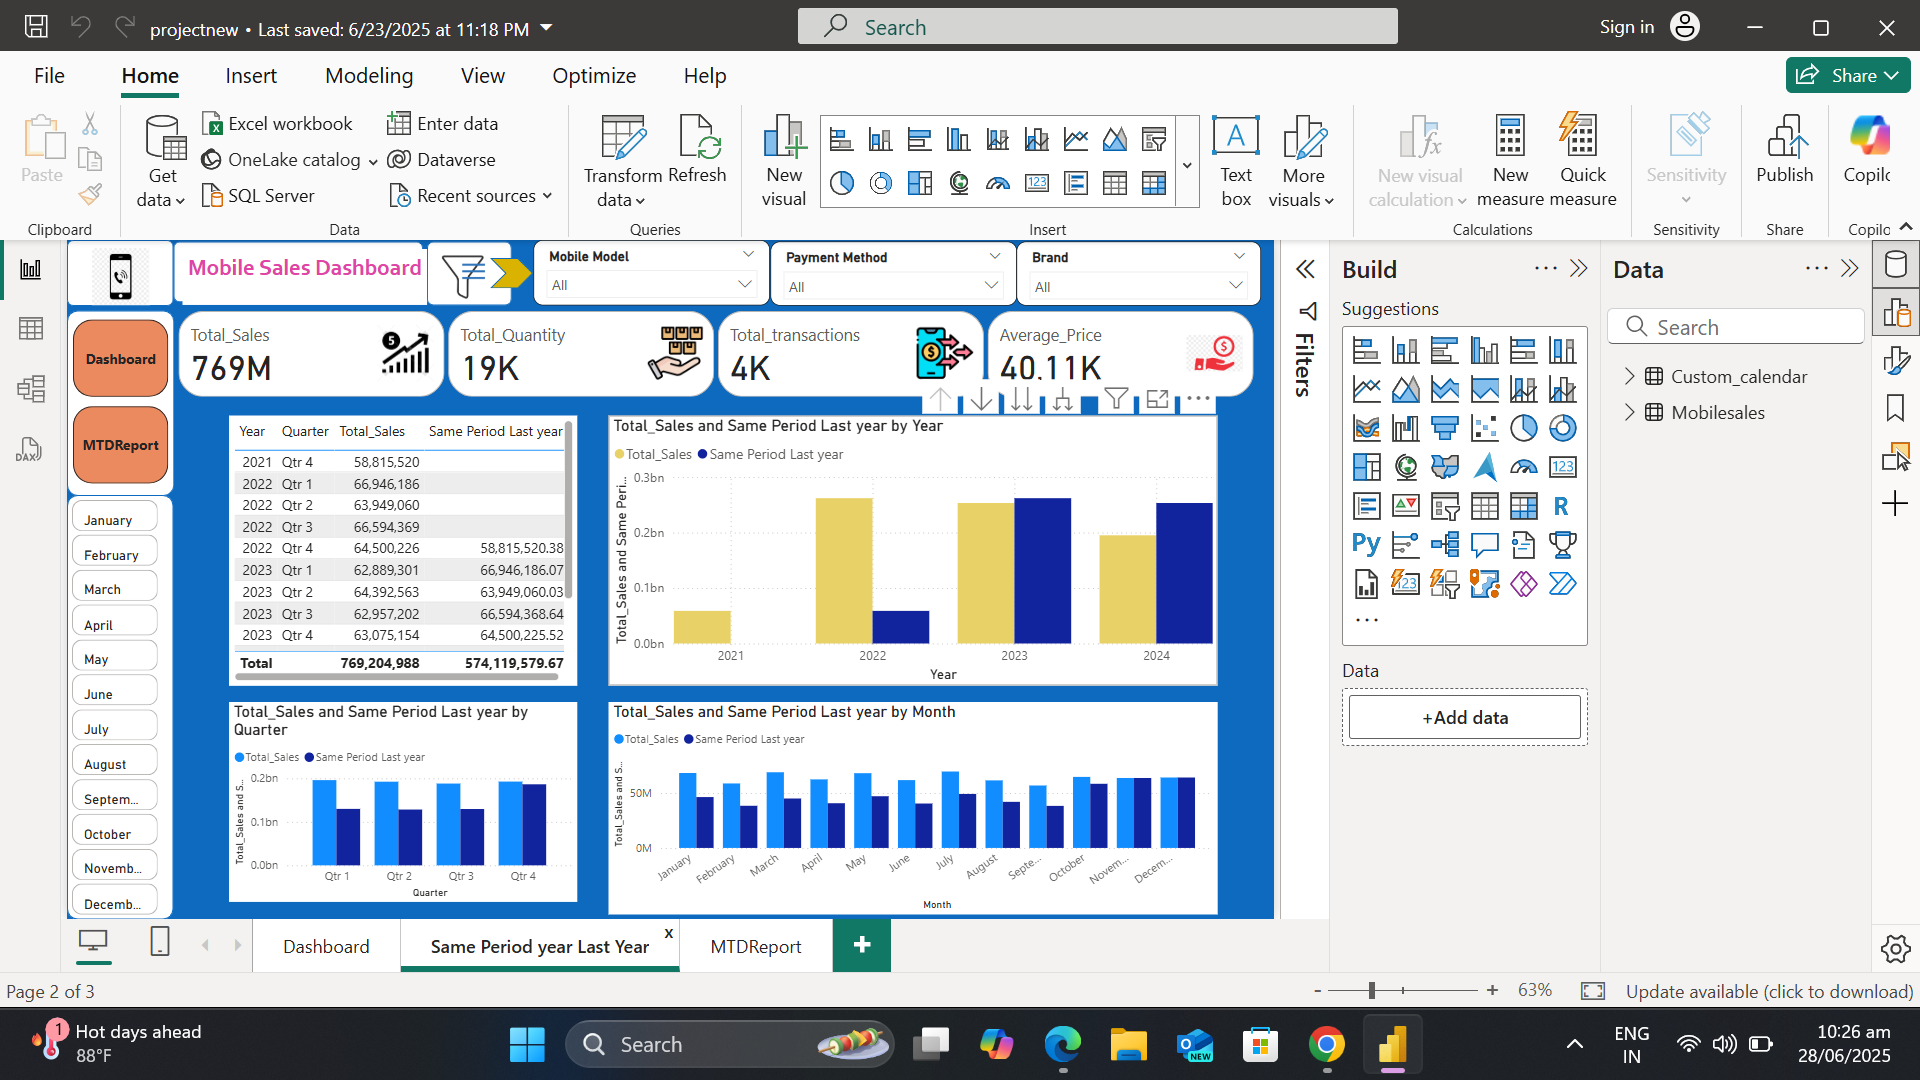

This screenshot's page, from the dashboard's own definition file:
{"tool":"powerbi","page":{"name":"Same Period year Last Year","canvas":[1280,720],"ordinal":1},"visuals":[{"type":"shape","box":[0,0,112.9,70],"z":0},{"type":"shape","box":[0,74.6,113.6,196.6],"z":1000},{"type":"shape","box":[0,270.4,112.9,450.1],"z":2000},{"type":"advancedSlicerVisual","fields":{"Values":["Custom_calendar.Date.Variation.Date Hierarchy.Month"]},"box":[0,270.4,101.8,450.1],"z":3000},{"type":"cardVisual","fields":{"Data":["Mobilesales.Total_Sales","Mobilesales.Total_Quantity","Mobilesales.Total_transactions","Mobilesales.Average_Price"]},"box":[113.6,69.5,1152.5,101.7],"z":4000},{"type":"slicer","fields":{"Values":["Mobilesales.Mobile Model"]},"box":[494.9,0,250.8,69.5],"z":5000},{"type":"slicer","fields":{"Values":["Mobilesales.Payment Method"]},"box":[745.8,1.7,261,67.8],"z":6000},{"type":"slicer","fields":{"Values":["Mobilesales.Brand"]},"box":[1006.8,1.7,259.3,67.8],"z":7000},{"type":"shape","box":[381.4,1.7,89.8,67.8],"z":8000},{"type":"shape","box":[449.2,18.6,45.8,32.2],"z":9000},{"type":"shape","box":[113.6,1.7,264.4,64.4],"z":10000},{"type":"textbox","box":[122,10.2,259.3,59.3],"z":11000},{"type":"image","box":[15.3,3.4,81.4,71.2],"z":12000},{"type":"image","box":[389.8,8.5,61,62.7],"z":13000},{"type":"tableEx","fields":{"Values":["Custom_calendar.Date.Variation.Date Hierarchy.Year","Custom_calendar.Date.Variation.Date Hierarchy.Quarter","Mobilesales.Total_Sales","Mobilesales.Same Period Last year"]},"box":[171.2,186.4,369.5,286.4],"z":14000},{"type":"clusteredColumnChart","fields":{"Category":["Custom_calendar.Date.Variation.Date Hierarchy.Year","Custom_calendar.Date.Variation.Date Hierarchy.Quarter"],"Y":["Mobilesales.Total_Sales","Mobilesales.Same Period Last year"]},"box":[574.6,186.4,645.8,286.4],"z":15000},{"type":"clusteredColumnChart","fields":{"Category":["Custom_calendar.Date.Variation.Date Hierarchy.Year","Custom_calendar.Date.Variation.Date Hierarchy.Quarter"],"Y":["Mobilesales.Total_Sales","Mobilesales.Same Period Last year"]},"box":[171.2,489.8,369.5,211.9],"z":16000},{"type":"clusteredColumnChart","fields":{"Category":["Custom_calendar.Date.Variation.Date Hierarchy.Year","Custom_calendar.Date.Variation.Date Hierarchy.Quarter","Custom_calendar.Date.Variation.Date Hierarchy.Month","Custom_calendar.Date.Variation.Date Hierarchy.Day"],"Y":["Mobilesales.Total_Sales","Mobilesales.Same Period Last year"]},"box":[574.6,489.8,645.8,225.4],"z":17000},{"type":"pageNavigator","box":[6.1,85.1,101.3,174.2],"z":17001}]}

Visuals, with their boxes on the page's 1280x720 design canvas (x1, y1, x2, y2). These are canvas units, not pixel positions in the 1920x1080 screenshot, which may show the page scaled, cropped or inside an application window:
shape: <region>0, 0, 113, 70</region>
shape: <region>0, 75, 114, 271</region>
shape: <region>0, 270, 113, 720</region>
advancedSlicerVisual - Custom_calendar.Date.Variation.Date Hierarchy.Month: <region>0, 270, 102, 720</region>
cardVisual - Mobilesales.Total_Sales x Mobilesales.Total_Quantity: <region>114, 70, 1266, 171</region>
slicer - Mobilesales.Mobile Model: <region>495, 0, 746, 70</region>
slicer - Mobilesales.Payment Method: <region>746, 2, 1007, 70</region>
slicer - Mobilesales.Brand: <region>1007, 2, 1266, 70</region>
shape: <region>381, 2, 471, 70</region>
shape: <region>449, 19, 495, 51</region>
shape: <region>114, 2, 378, 66</region>
textbox: <region>122, 10, 381, 70</region>
image: <region>15, 3, 97, 75</region>
image: <region>390, 8, 451, 71</region>
tableEx - Custom_calendar.Date.Variation.Date Hierarchy.Year x Custom_calendar.Date.Variation.Date Hierarchy.Quarter: <region>171, 186, 541, 473</region>
clusteredColumnChart - Custom_calendar.Date.Variation.Date Hierarchy.Year x Custom_calendar.Date.Variation.Date Hierarchy.Quarter: <region>575, 186, 1220, 473</region>
clusteredColumnChart - Custom_calendar.Date.Variation.Date Hierarchy.Year x Custom_calendar.Date.Variation.Date Hierarchy.Quarter: <region>171, 490, 541, 702</region>
clusteredColumnChart - Custom_calendar.Date.Variation.Date Hierarchy.Year x Custom_calendar.Date.Variation.Date Hierarchy.Quarter: <region>575, 490, 1220, 715</region>
pageNavigator: <region>6, 85, 107, 259</region>
